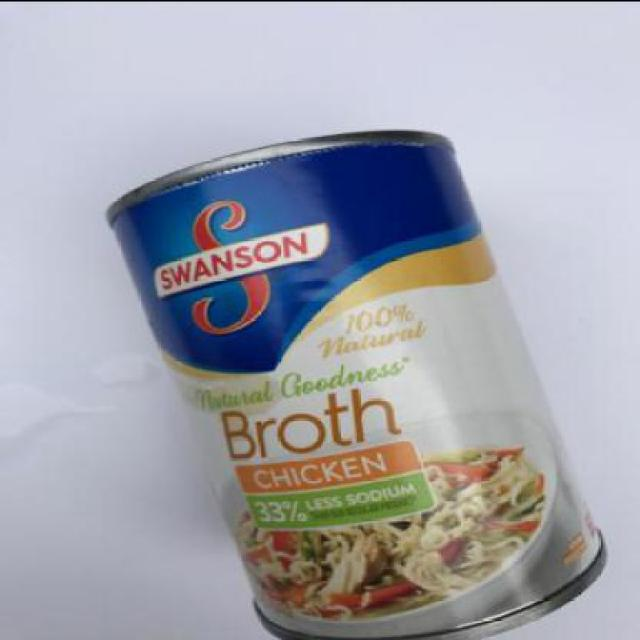METAL: (111, 126, 608, 639)
